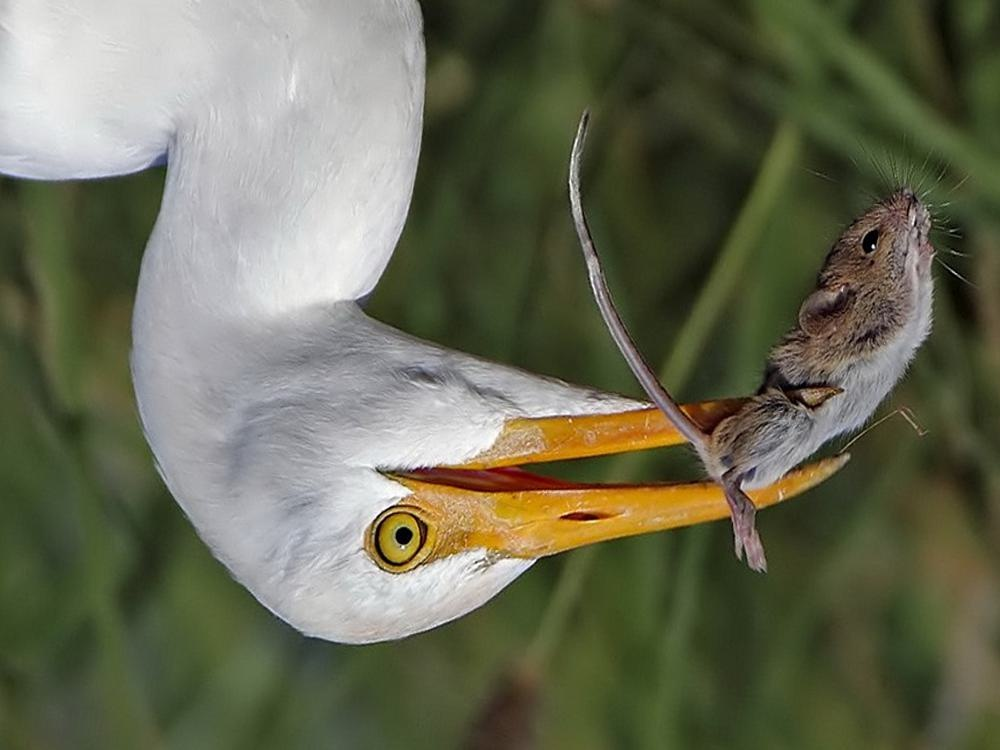egret: (1, 1, 850, 673)
